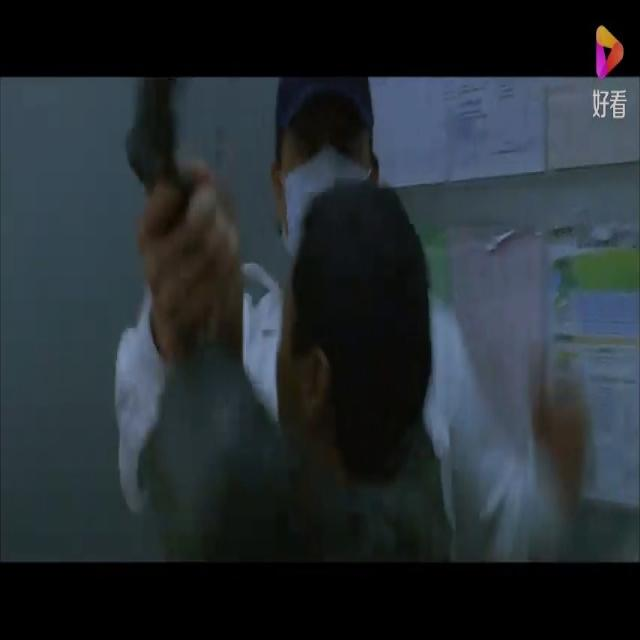fight: (101, 73, 609, 563)
